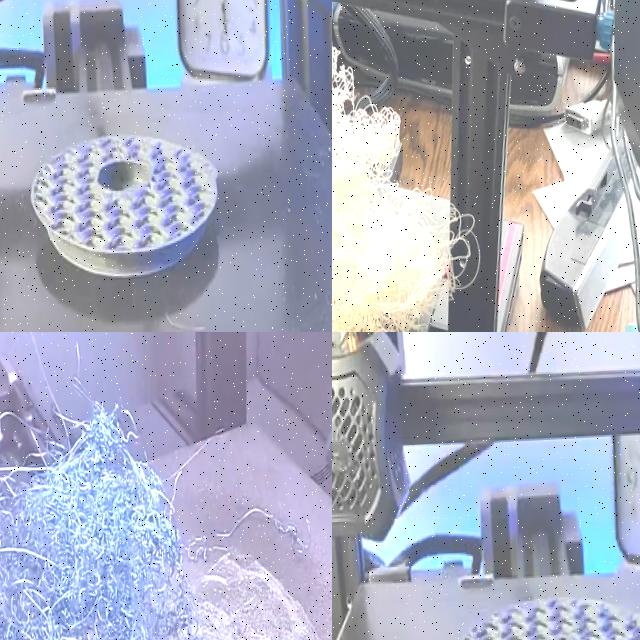spaghetti: (0, 332, 226, 640), (332, 48, 451, 332)
